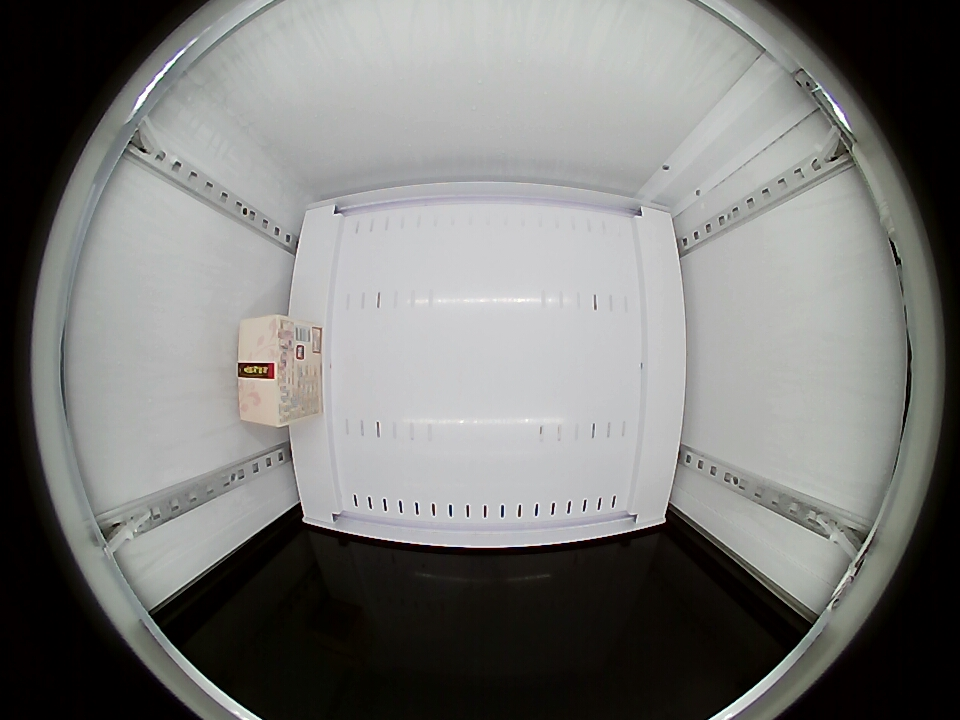rousongbing: (238, 314, 309, 427)
